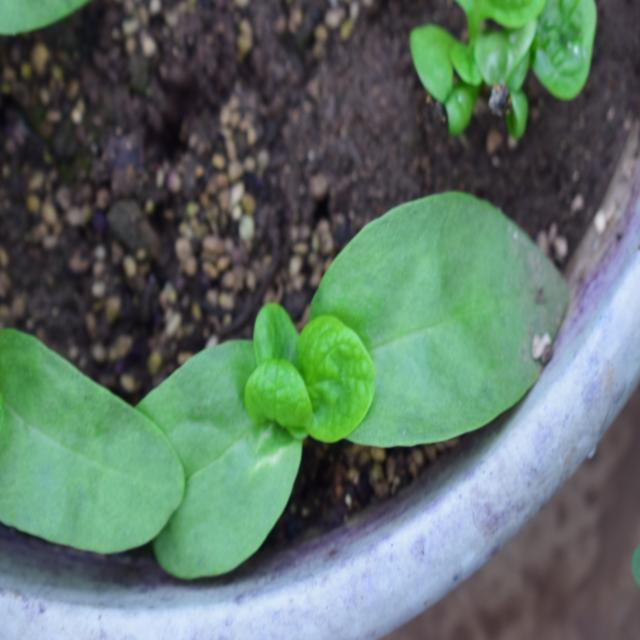Ceylon spinach: (100, 170, 548, 550)
